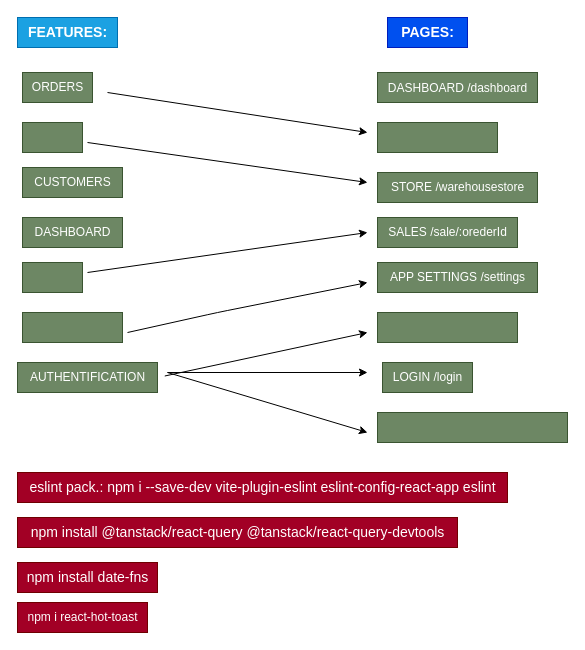
This 585x650 diagram has some shape labels left out. Each missing label, with the centre of its shape:
"ACCOUNT SETTINGS /account" goes at [472,427].
"APPSETTINGS" goes at [72,327].
"ORDERS /orders" goes at [437,137].
"SALES" goes at [52,277].
"STORE" goes at [52,137].
"USER SIGN IN /users" goes at [447,327].
